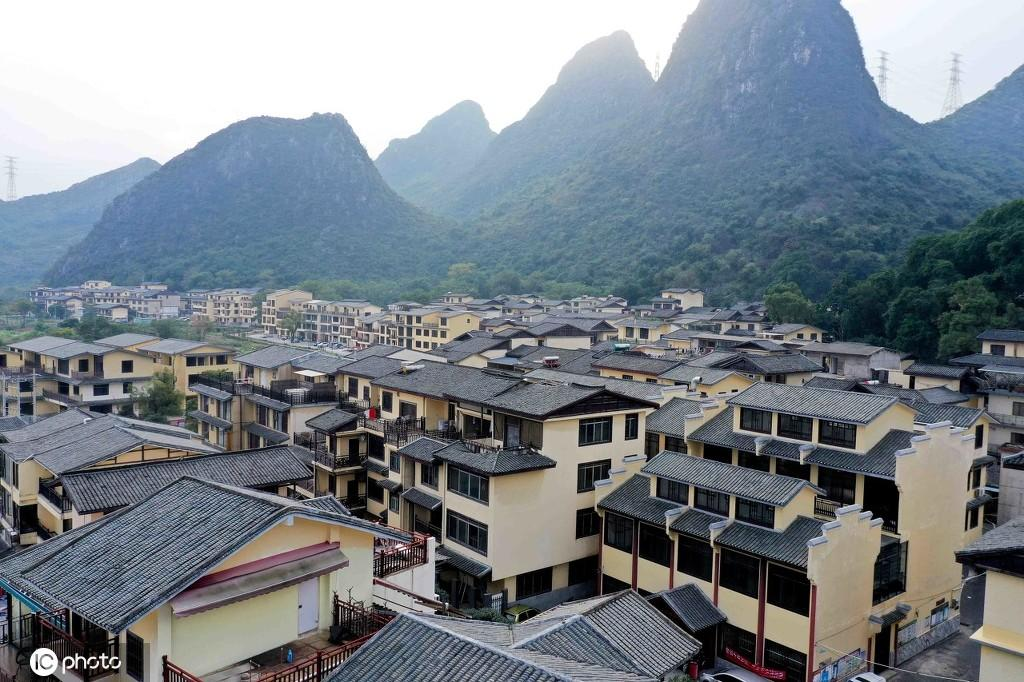buildings: (617, 371, 942, 654), (343, 340, 599, 585), (79, 483, 392, 676), (28, 316, 332, 490)
mountain: (508, 103, 1009, 315), (105, 106, 482, 322)
